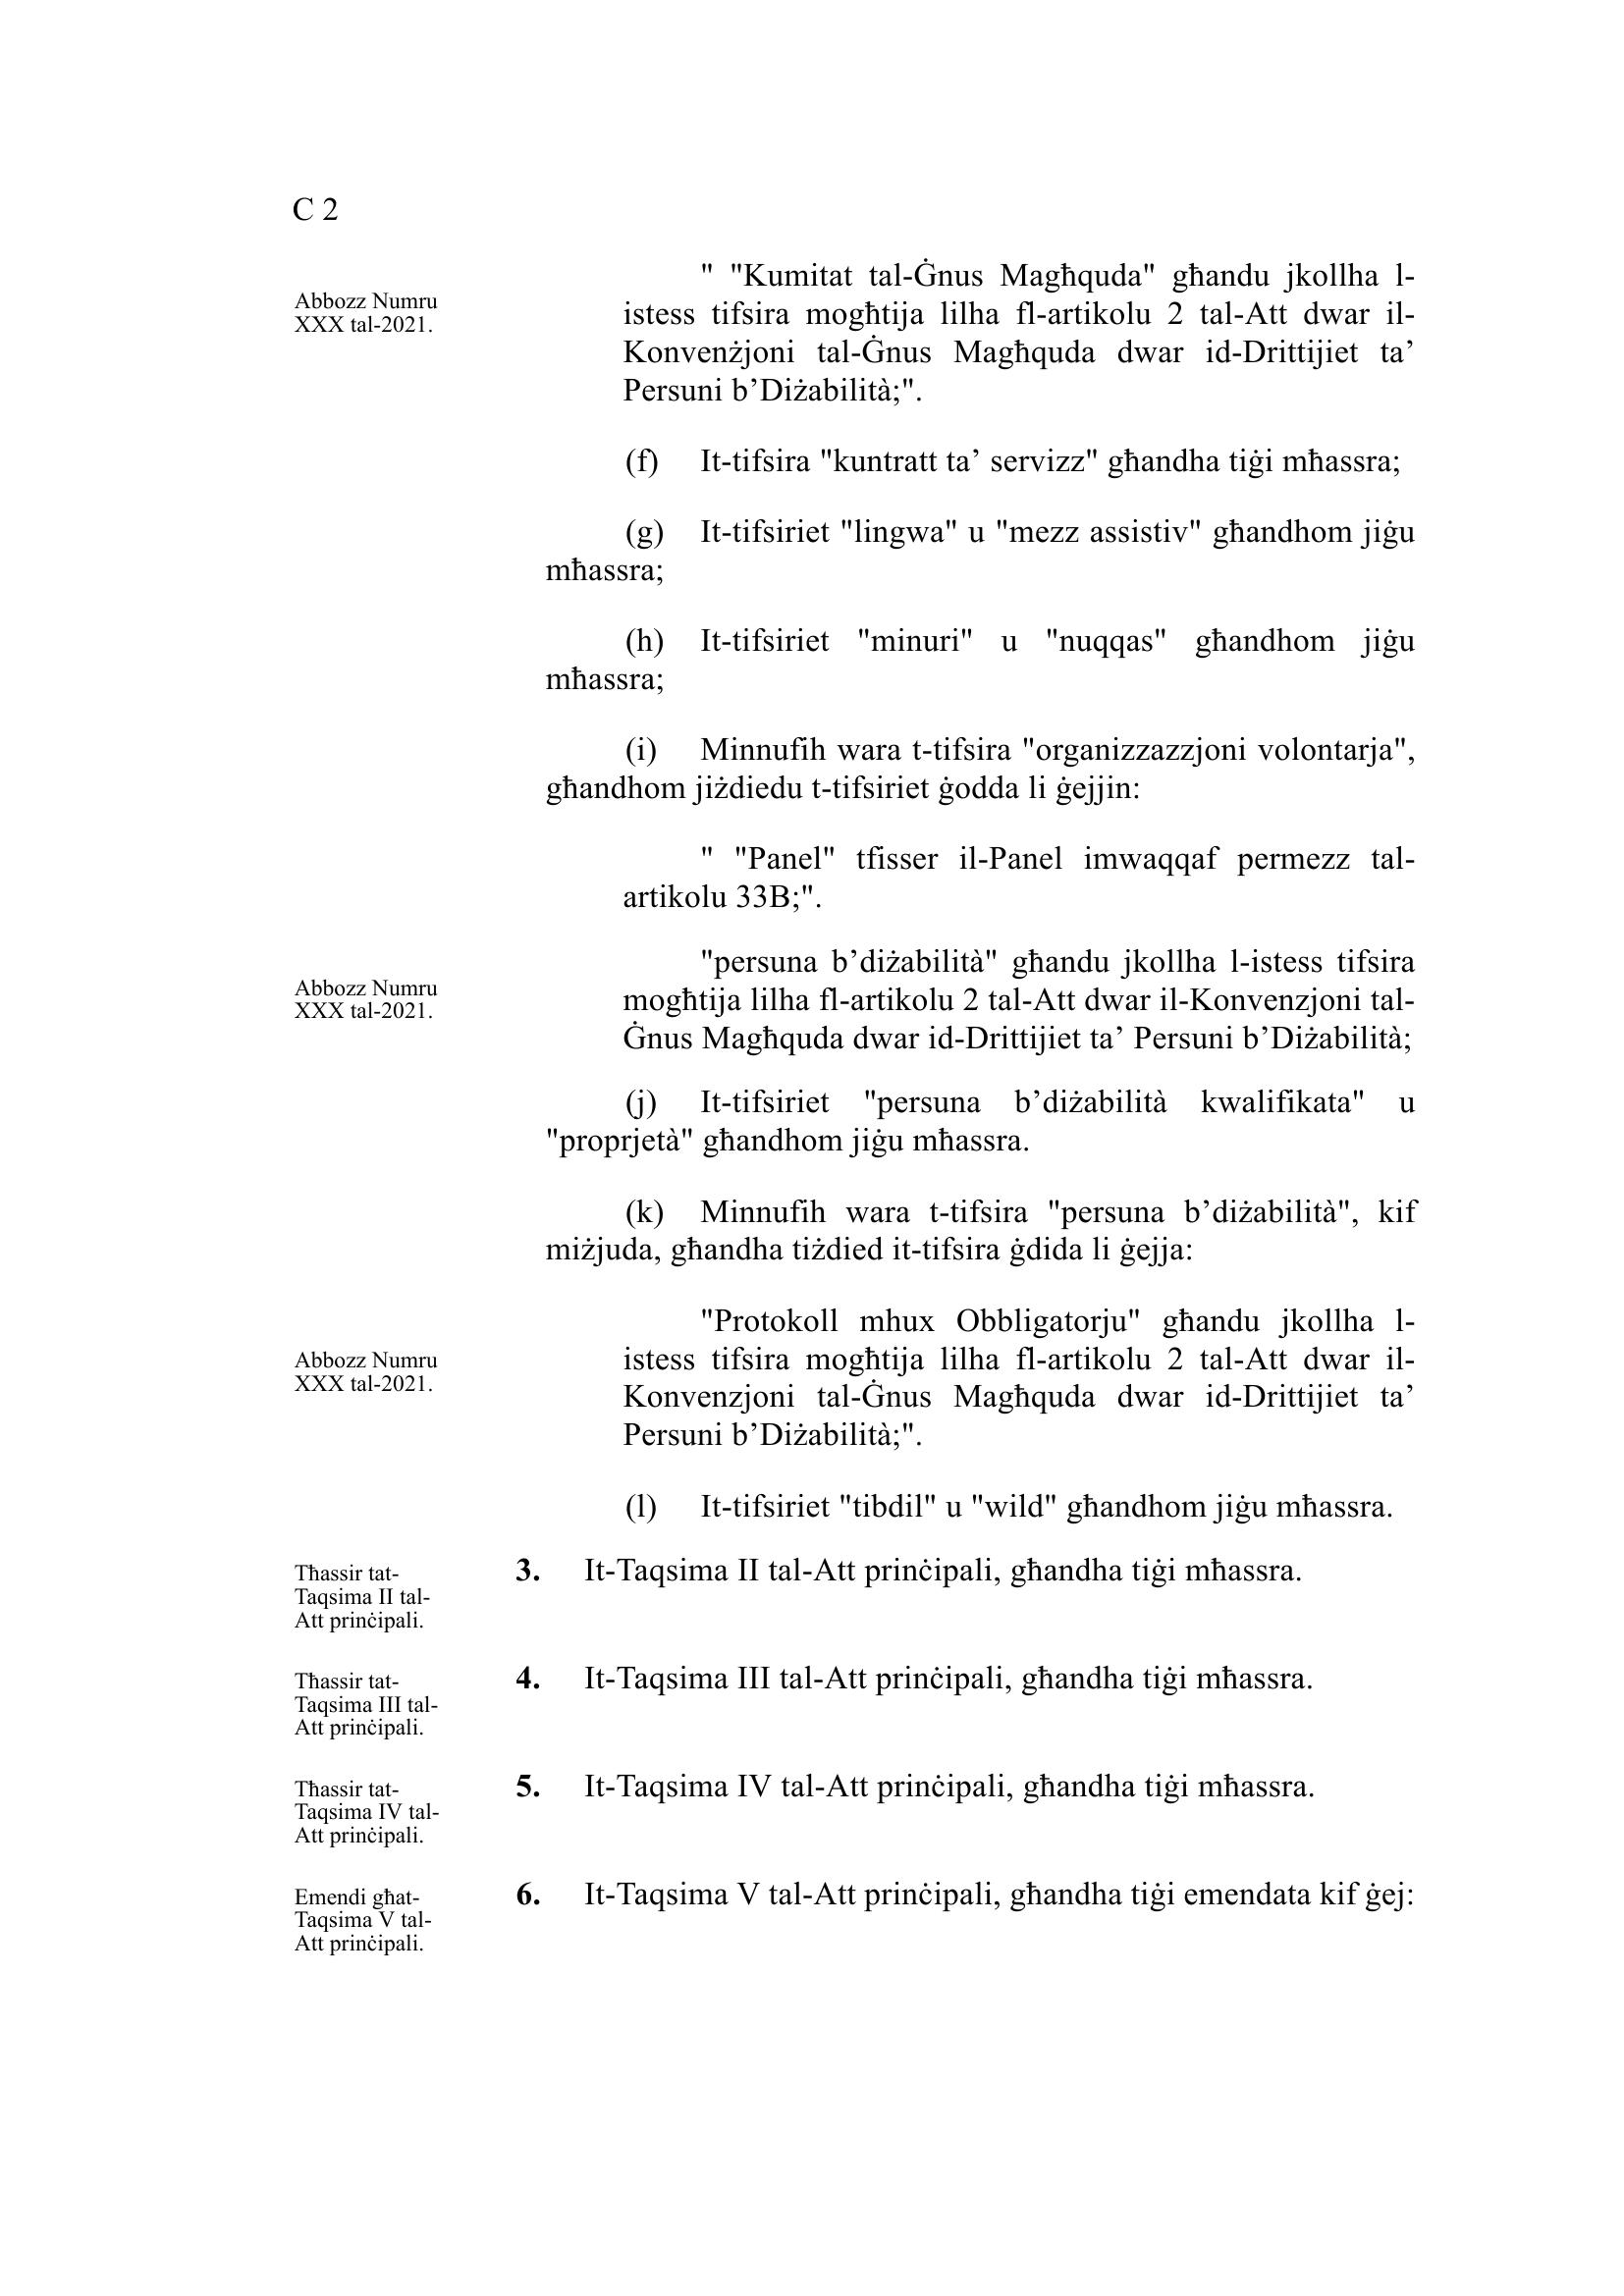text: (475, 230, 1441, 1966)
